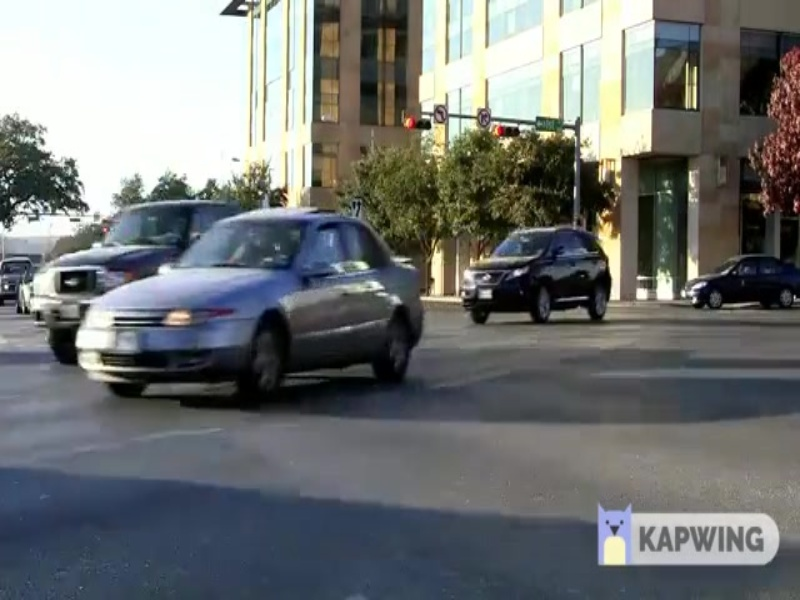car: (53, 205, 435, 398), (678, 247, 800, 319)
suv: (454, 219, 616, 329)
